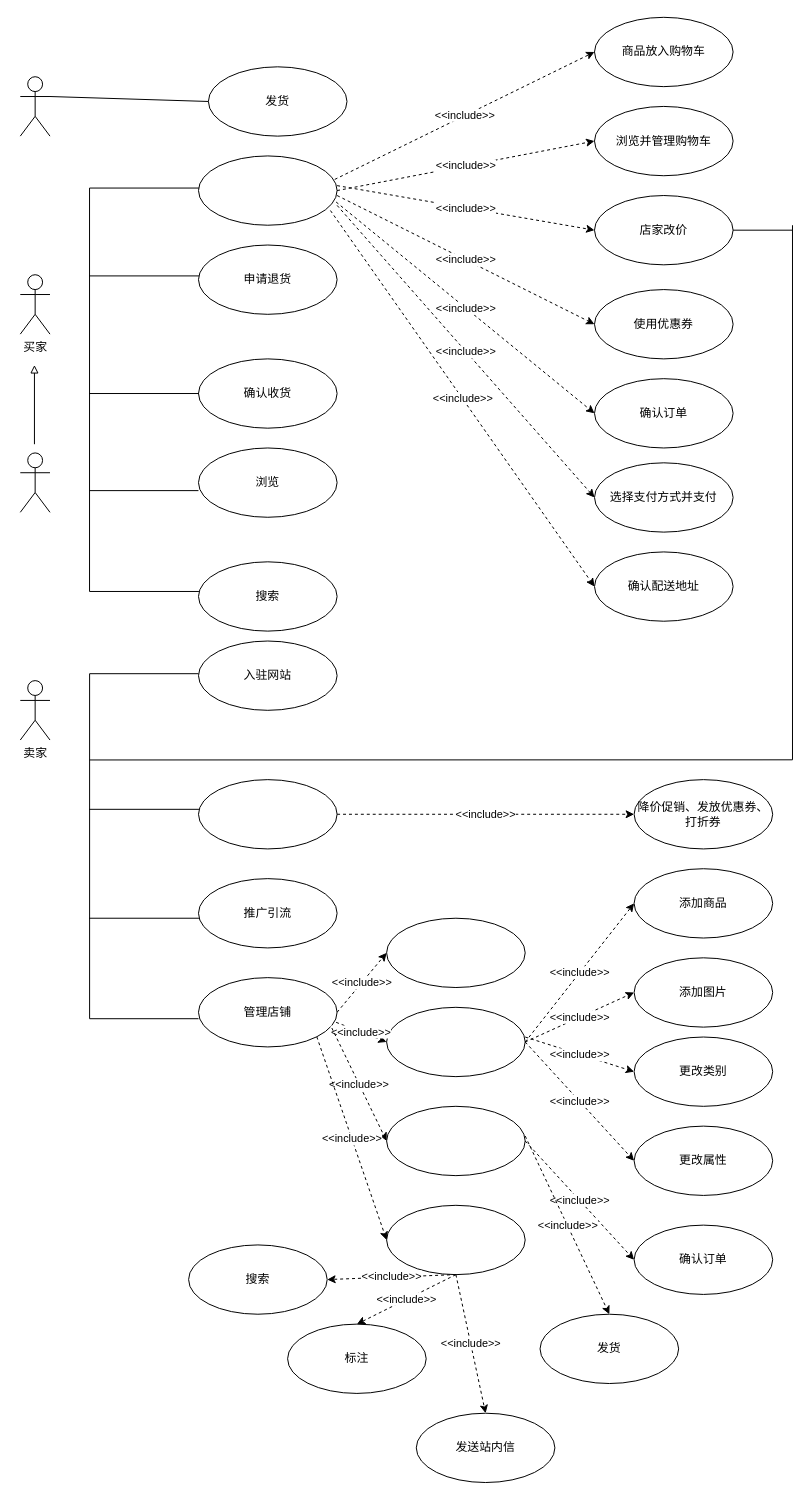
Some shapes in this 811 by 1500 pixel diagram are drawn without their labels. The centre of each missing label's shape, as x and y in pixels:
任何人: (x=34, y=482)
供应商: (x=34, y=106)
开店售货: (x=267, y=814)
管理商品: (x=455, y=1041)
管理商品类别: (x=455, y=952)
管理客户: (x=455, y=1239)
管理订单: (x=455, y=1140)
购买商品: (x=267, y=190)
